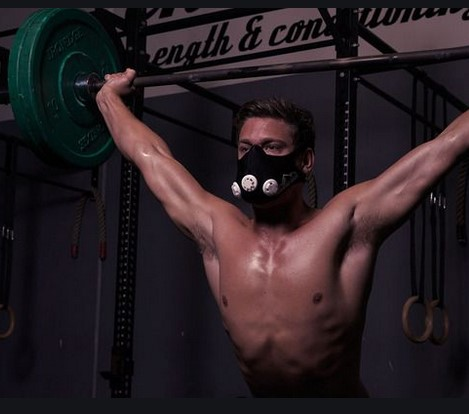face_with_mask: (226, 103, 322, 225)
